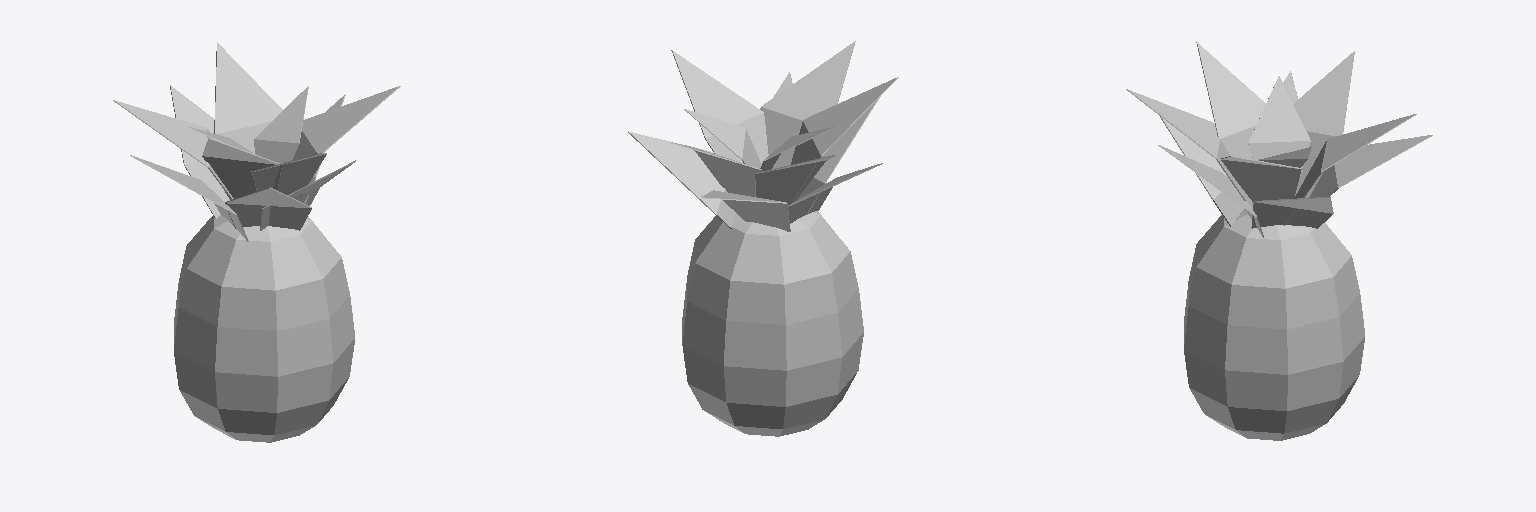
3 views of the same model, side by side, from view 1: azimuth 30°, elevation 25°; view 2: azimuth 150°, elevation 25°; view 3: azimuth 270°, elevation 25° (orthographic).
Parts seen in each view (by area): view 1: Pineapple_Plane.117; view 2: Pineapple_Plane.117; view 3: Pineapple_Plane.117.
Part boxes in pixels (left/top/right/bottom): Pineapple_Plane.117: left=113, top=42, right=400, bottom=442; Pineapple_Plane.117: left=628, top=41, right=898, bottom=436; Pineapple_Plane.117: left=1126, top=42, right=1432, bottom=440.
Size of the model in its own units: 4.53 by 6.1 by 4.99.